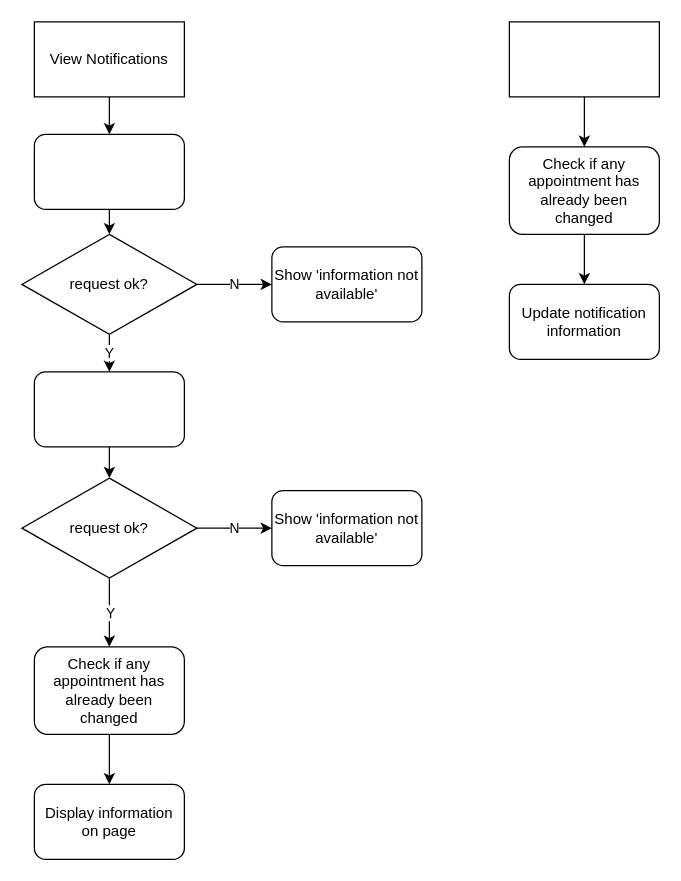
Some shapes in this 681 by 881 pixel diagram are drawn without their labels. The shapes that lost their labels are listed below. From the top down, each one's box as (x1, y1, x2, y2) in pixels, then its label:
(508, 21, 659, 97): Change request status
(33, 133, 184, 209): get notification information from DB
(33, 371, 184, 447): Get appointment information from API
